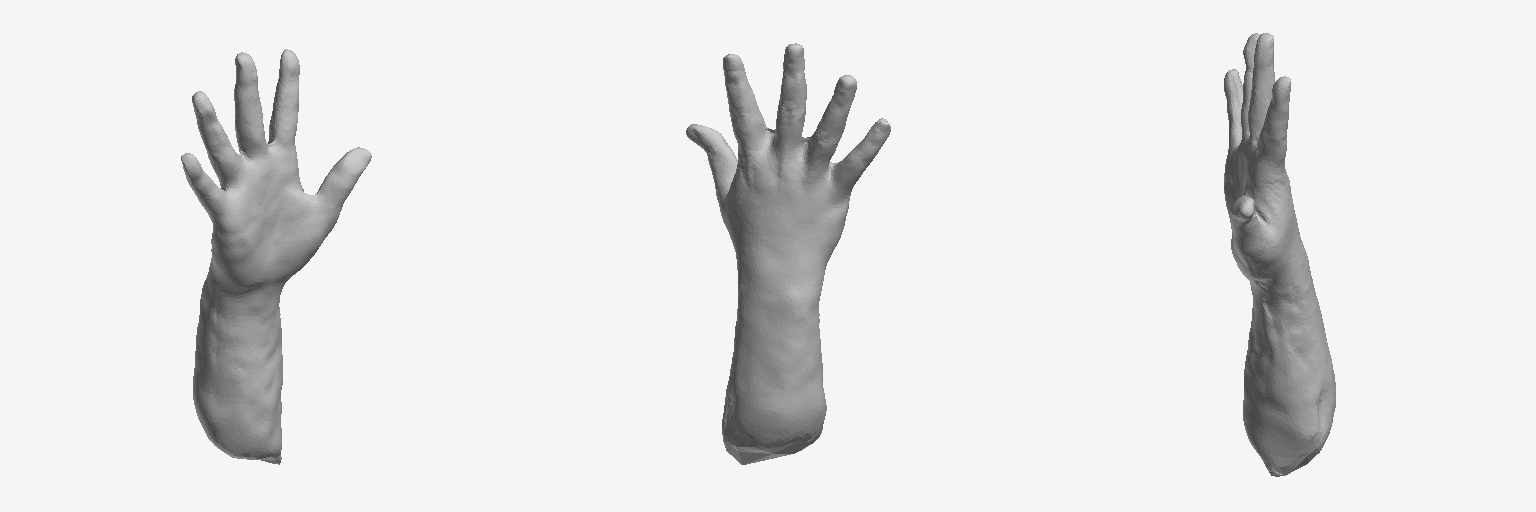
Rendered from measurable_x.obj.
3 renders of one model, left to right at view 1: azimuth 30°, elevation 25°; view 2: azimuth 150°, elevation 25°; view 3: azimuth 270°, elevation 25°, orthographic.
Parts seen in each view (by area): view 1: measurable; view 2: measurable; view 3: measurable.
Boxes of the visible parts, x1,y1,x2,y2 form: measurable: [181, 49, 371, 464]; measurable: [686, 43, 890, 464]; measurable: [1224, 33, 1335, 476].
Size of the model in its own units: 156 by 324 by 78.22.